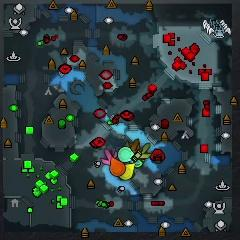p2: (118, 146, 135, 163)
p4: (118, 163, 135, 181)
p5: (110, 157, 125, 177)
x1: (102, 149, 118, 164)
x2: (138, 143, 152, 159)
x5: (125, 140, 139, 151)
